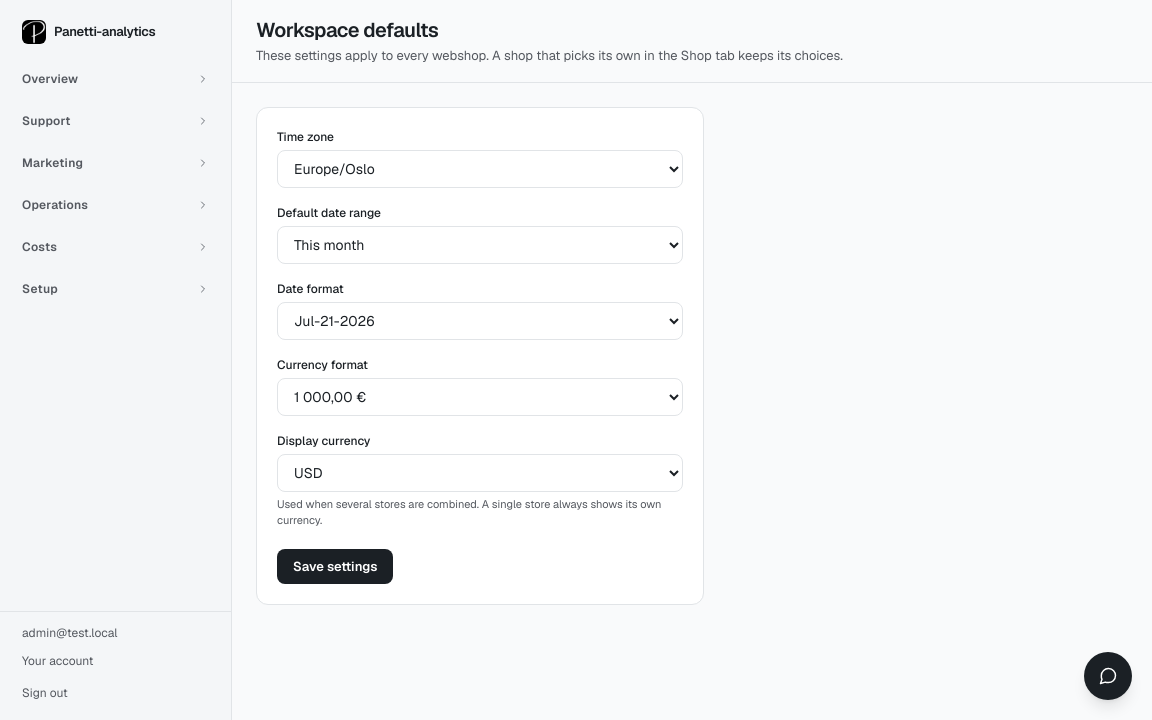
it: GeneralClient save › shows a saved toast, then reloads the page so the changes take effect
The image size is (1152, 720).
Click the button "Save settings" at point(335, 566), box x1=277 y1=548 x2=394 y2=584
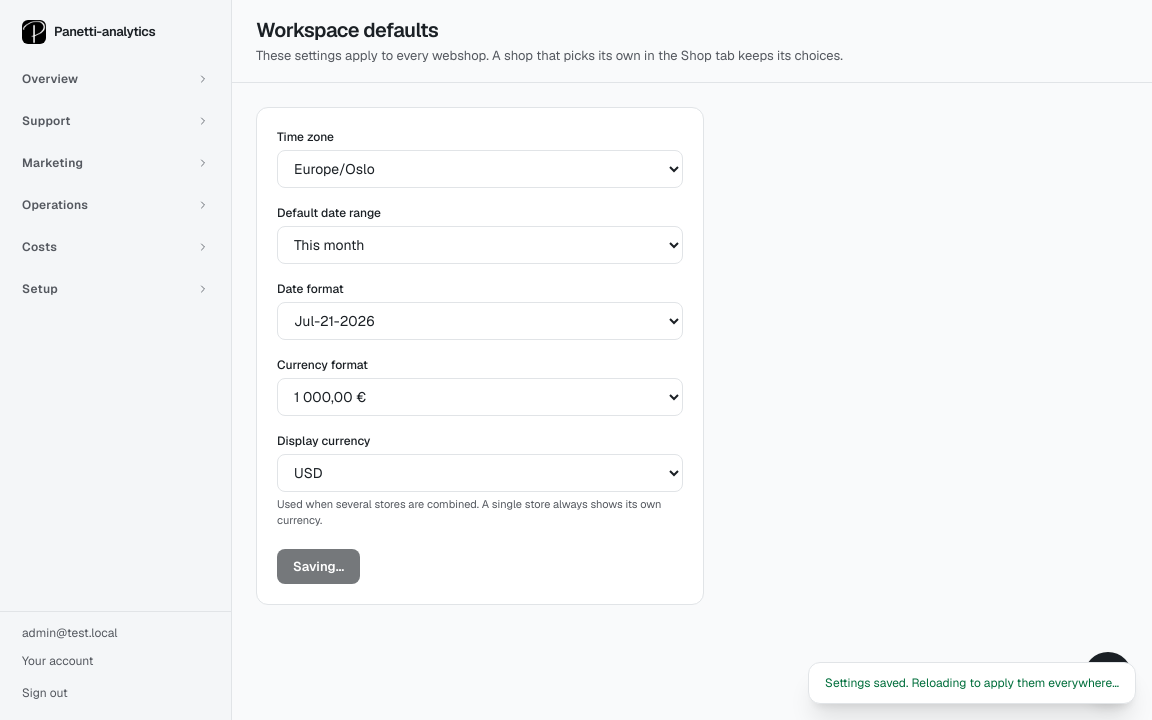
Expected: the button "Settings saved. Reloading to apply them everywhere…" is shown, x1=808 y1=662 x2=1136 y2=704
